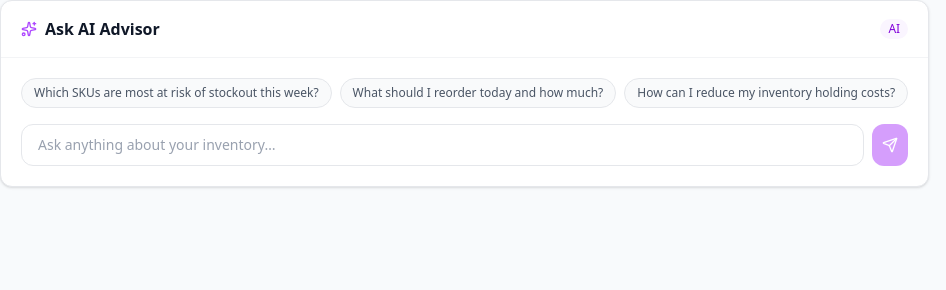
Test case: AskAI › submits question via input and Enter key
Type "Test question" into the field with placeholder "Ask anything about your inventory…".
click(443, 145); type("Test question")  # box [21,124,864,166]
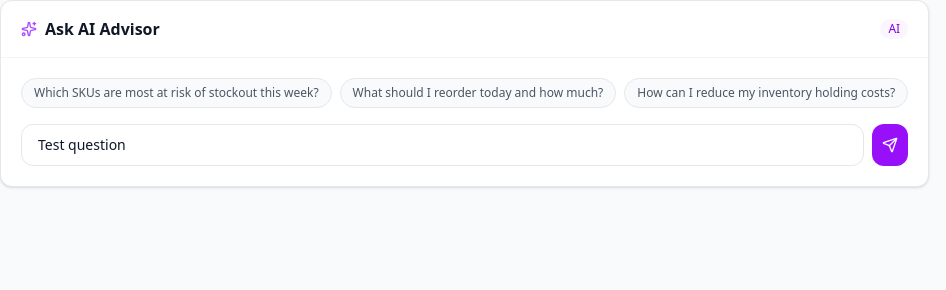
Press Enter in the field with placeholder "Ask anything about your inventory…", box [21,124,864,166]
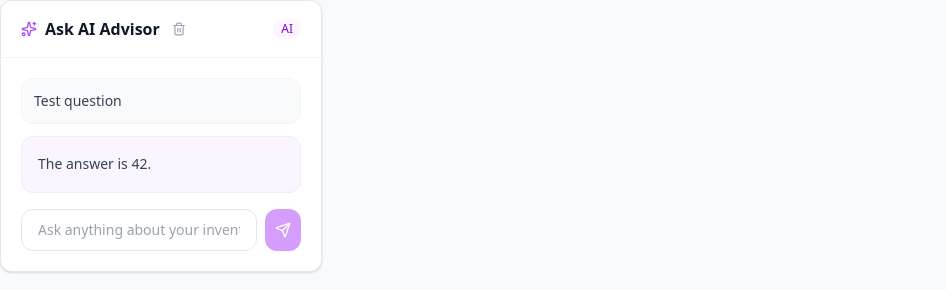
Now the text "The answer is 42." is shown, box [21,136,301,193]
